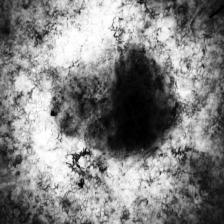Benign Marking or Mole: (84, 56, 179, 154)
